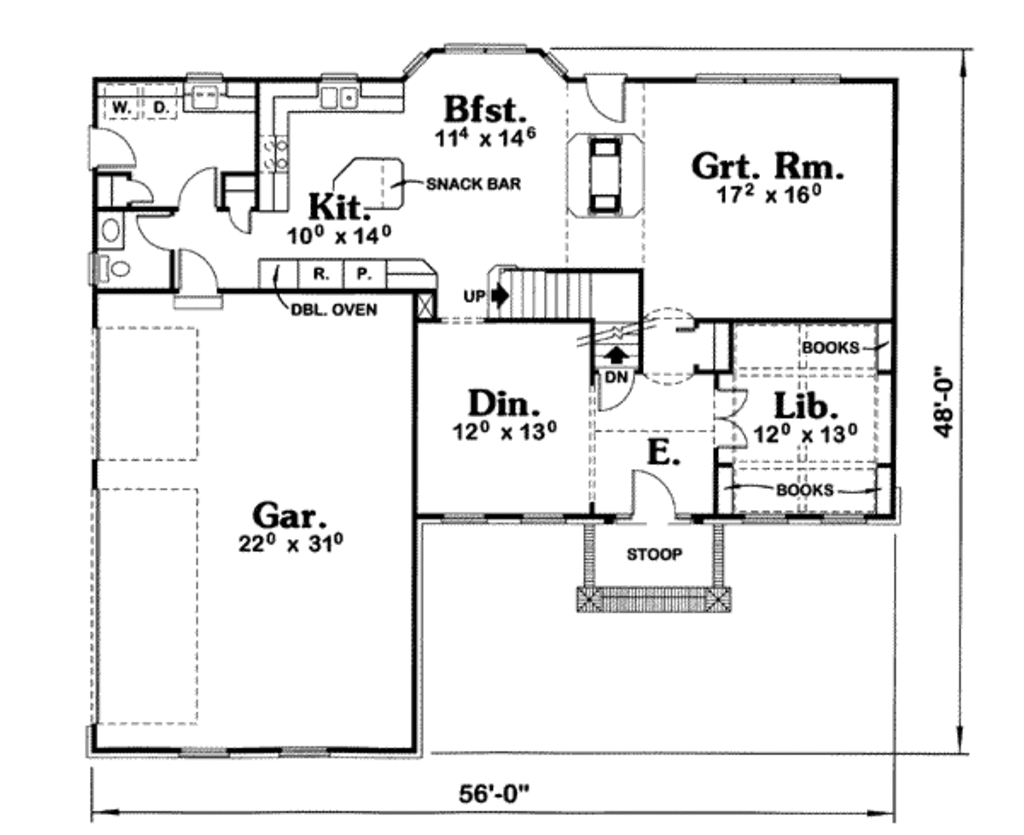door: (707, 383, 755, 455), (630, 466, 685, 525), (81, 122, 144, 172), (173, 241, 223, 297), (176, 163, 223, 216), (594, 368, 640, 413), (131, 212, 177, 253)
large_sink: (89, 251, 135, 286)
small_sink: (90, 207, 131, 260)
stairs: (474, 264, 643, 382)
twin_sink: (312, 80, 369, 118)
window: (684, 69, 842, 89), (441, 35, 534, 65), (733, 508, 791, 533), (176, 69, 231, 90), (271, 743, 337, 760), (820, 508, 865, 531), (173, 744, 231, 761)
